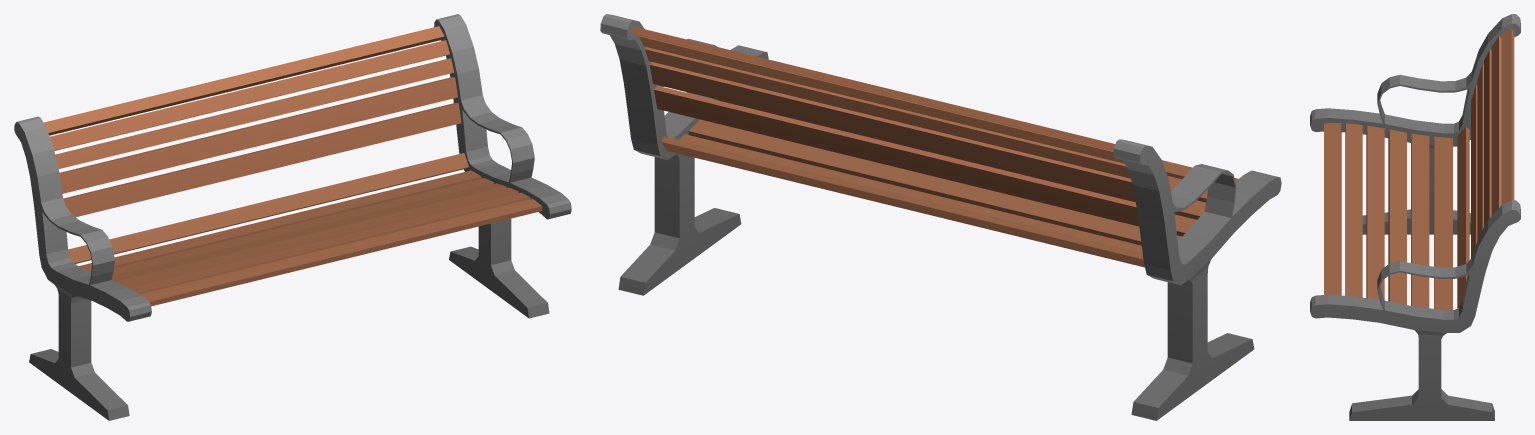
File: bench 2.fbx
3 views of the same model, side by side, from view 1: azimuth 30°, elevation 25°; view 2: azimuth 150°, elevation 25°; view 3: azimuth 270°, elevation 25° (orthographic). The views are drawn at different scales.
Visible parts, largest first — view 1: bench 2; view 2: bench 2; view 3: bench 2.
Boxes of the visible parts, left/top/right/bottom form: bench 2: left=14, top=14, right=571, bottom=420; bench 2: left=600, top=14, right=1281, bottom=420; bench 2: left=1310, top=14, right=1520, bottom=420.
Size of the model in its own units: 171 by 86.04 by 77.83.
